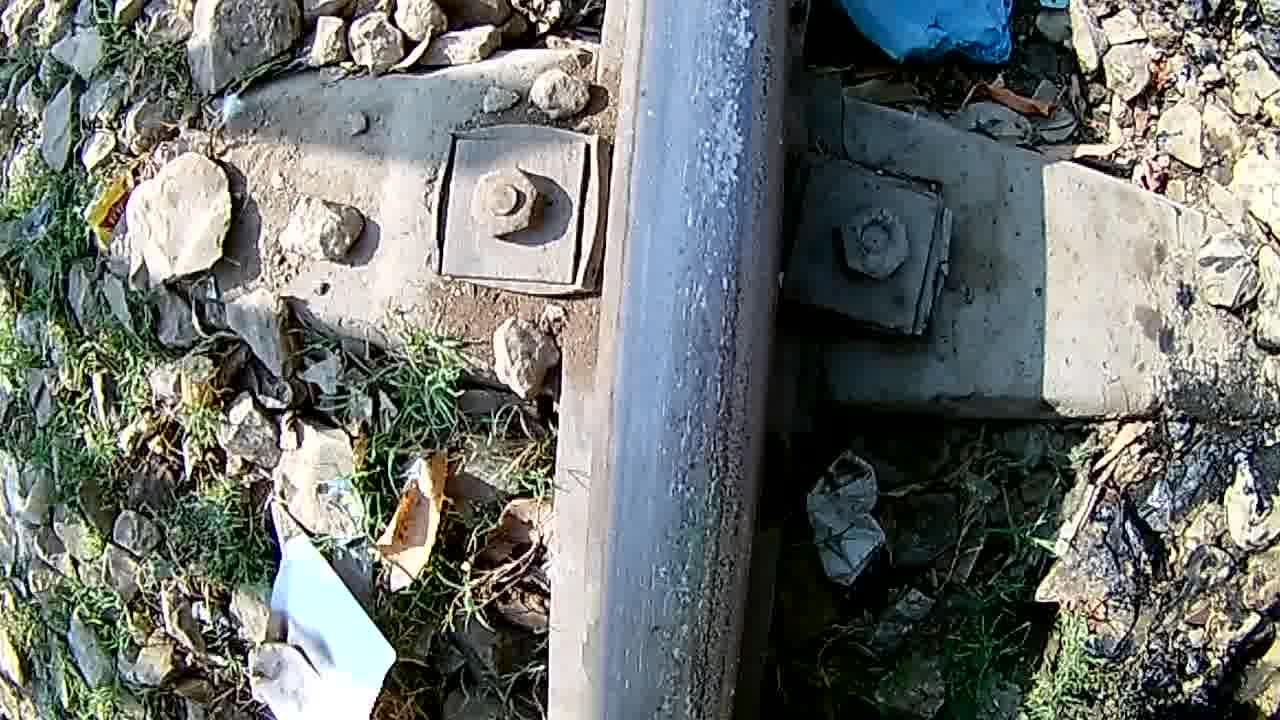clip_missing: (624, 0, 768, 717)
